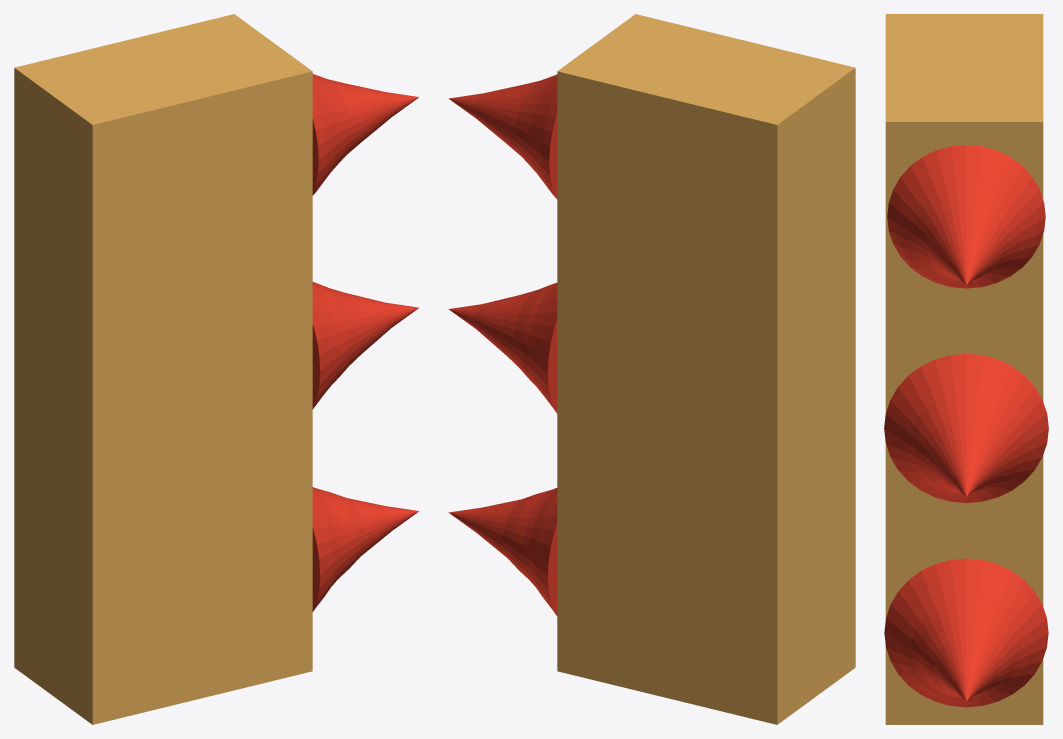
The model's file is engel2.fbx.
The picture shows the model from 3 angles, left to right: view 1: azimuth 30°, elevation 25°; view 2: azimuth 150°, elevation 25°; view 3: azimuth 270°, elevation 25°; orthographic projection.
Visible parts, largest first — view 1: Cube, Sphere.001, Sphere.002, Sphere.015; view 2: Cube, Sphere.001, Sphere.002, Sphere.015; view 3: Cube, Sphere.001, Sphere.002, Sphere.015.
Part boxes in pixels (left/top/right/bottom): Cube: left=14, top=14, right=312, bottom=724; Sphere.001: left=312, top=282, right=418, bottom=409; Sphere.002: left=312, top=487, right=419, bottom=611; Sphere.015: left=312, top=74, right=419, bottom=195; Cube: left=557, top=14, right=855, bottom=724; Sphere.001: left=448, top=282, right=557, bottom=413; Sphere.002: left=448, top=488, right=557, bottom=616; Sphere.015: left=448, top=74, right=557, bottom=199; Cube: left=885, top=14, right=1043, bottom=724; Sphere.001: left=884, top=353, right=1048, bottom=502; Sphere.002: left=884, top=558, right=1048, bottom=707; Sphere.015: left=887, top=145, right=1045, bottom=288.
Size of the model in its own units: 256 by 400 by 98.99.
